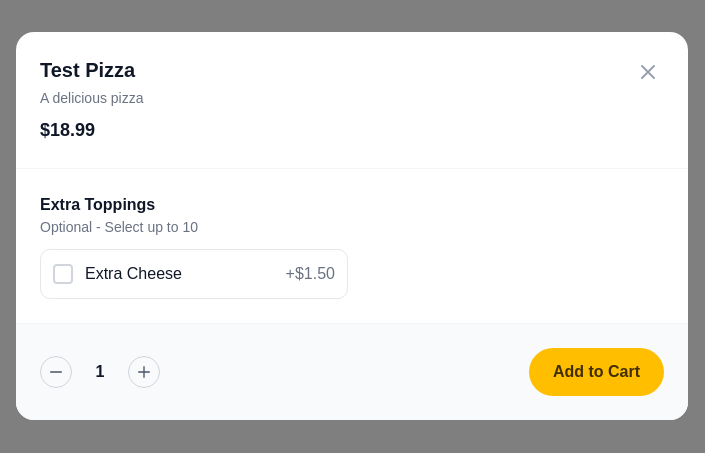
Test: ModifierModal › quantity selection › should increase modifier quantity
The width and height of the screenshot is (705, 453).
Note: Select the modifier
Click the text "Extra Cheese" at (194,274), box [40,249,348,299]
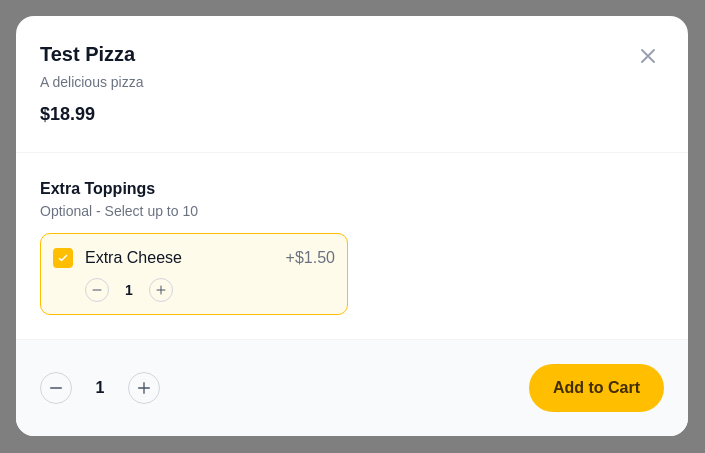
Note: Increase quantity
Click the button named "Increase quantity" below "Extra Cheese" at (161,290), box [149,278,173,302]
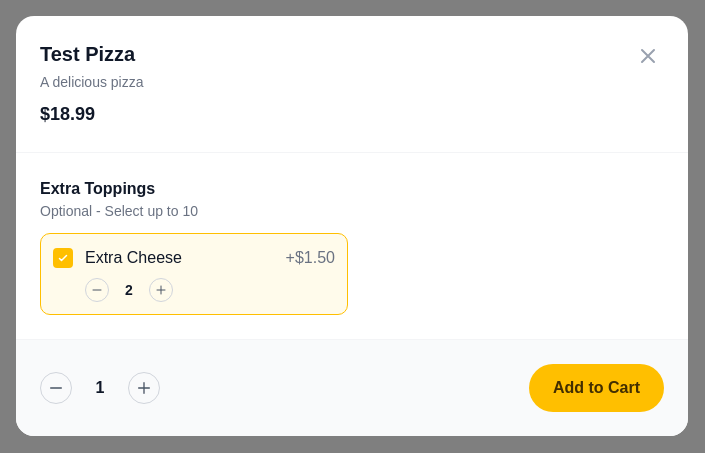
Expected: the text "2" is shown, [125,282,133,298]
Note: Increase again
Click the button named "Increase quantity" below "Extra Cheese" at (161,290), box [149,278,173,302]
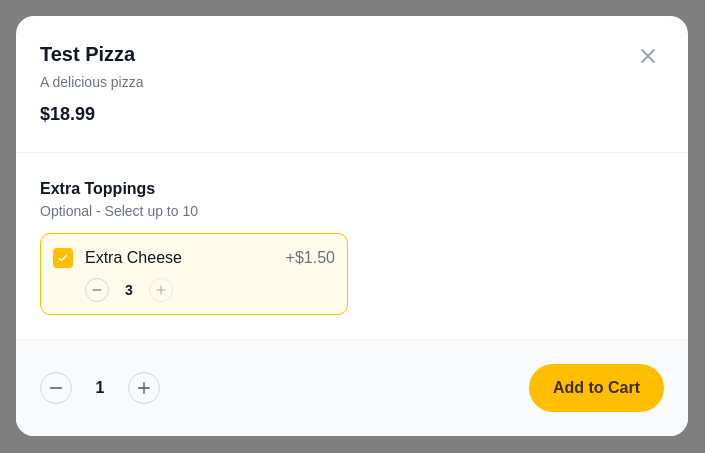
Expected: the text "3" is shown, [125,282,133,298]
